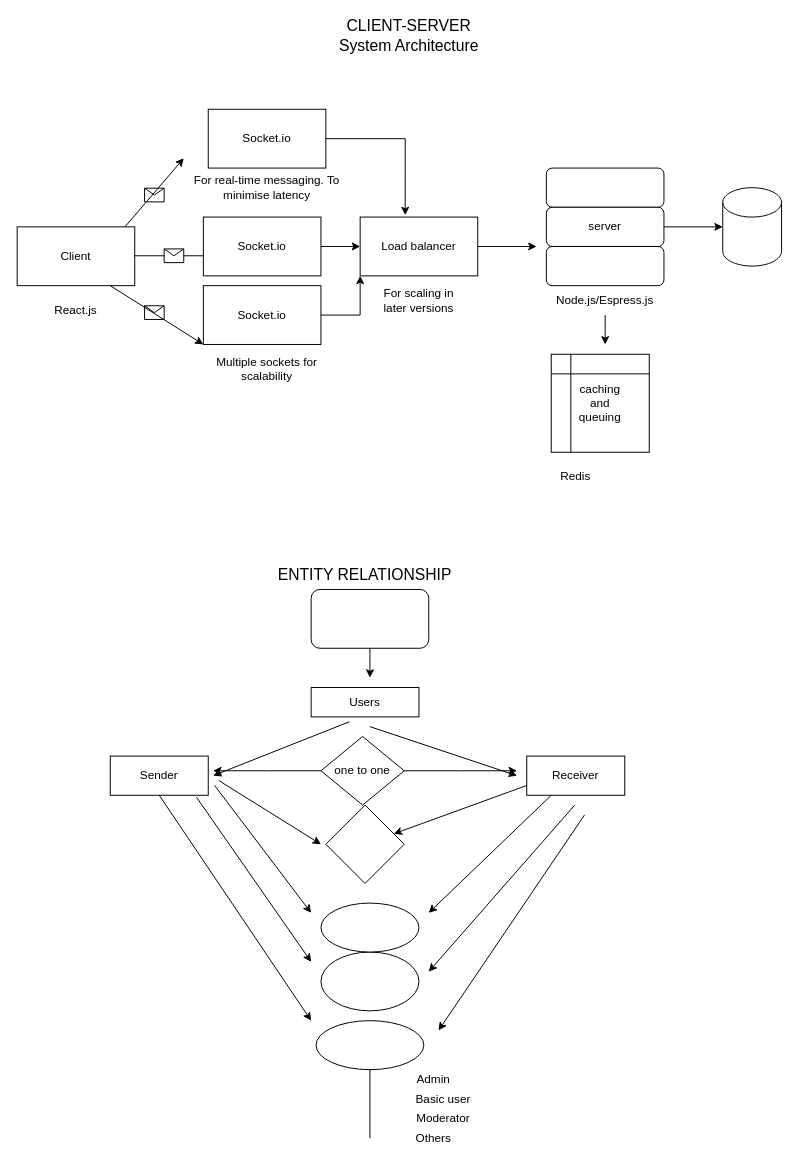
Image size: 799x1164. Some labels were removed from this diagram. Here are the shapes that lost their labels. From the top down, the box of each, then its label:
(722, 187, 782, 266): Database
(310, 588, 429, 648): Message App
(325, 804, 404, 883): Multiple Groups
(320, 902, 419, 952): UserID
(320, 951, 419, 1011): Name/Username
(315, 1020, 424, 1070): Roles
